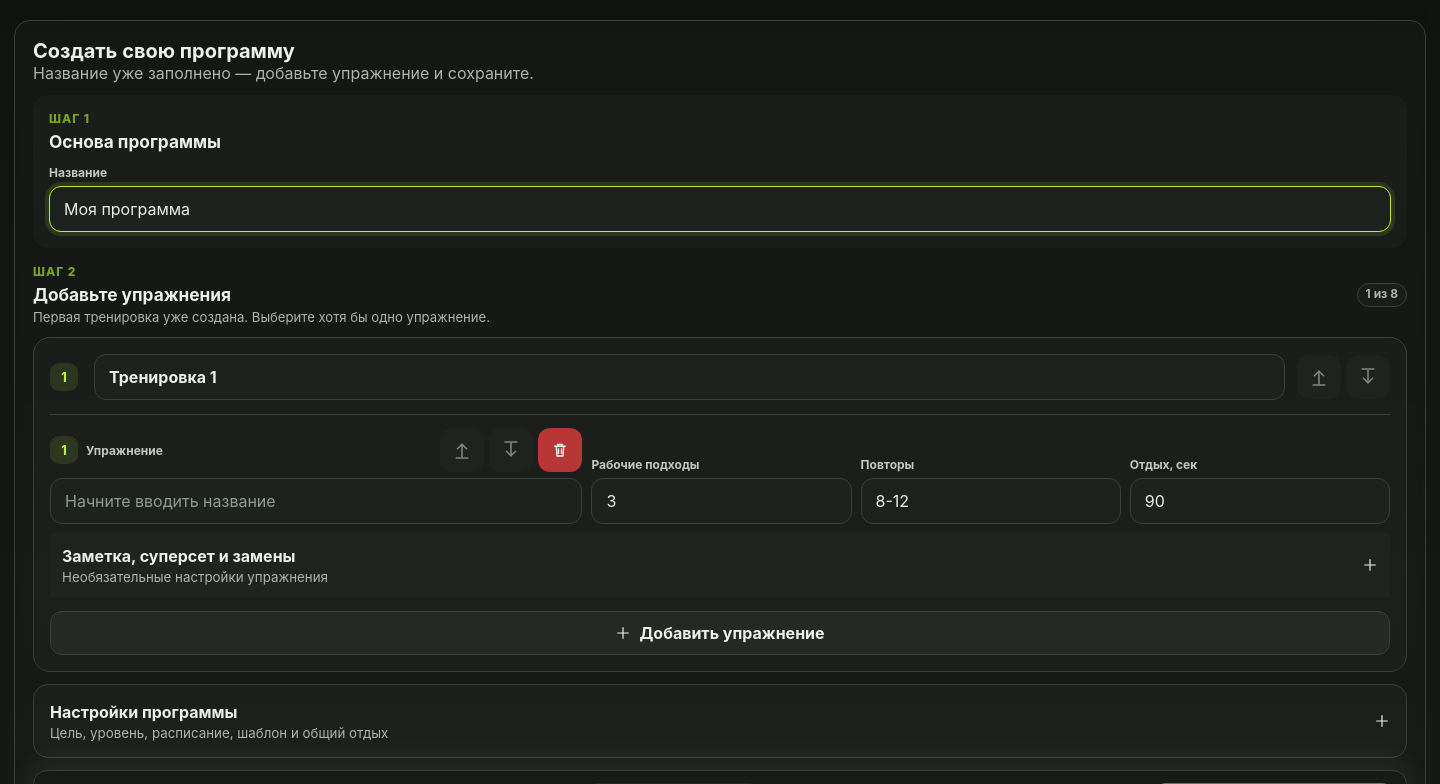
Test: ProgramBuilder type-aware prescription › находит machine/lever упражнение по разговорному alias и добавляет canonical item
Type "верхняя тяга хаммер" into the dropdown named "Поиск упражнения" at (316, 502), box [50,478,582,524]
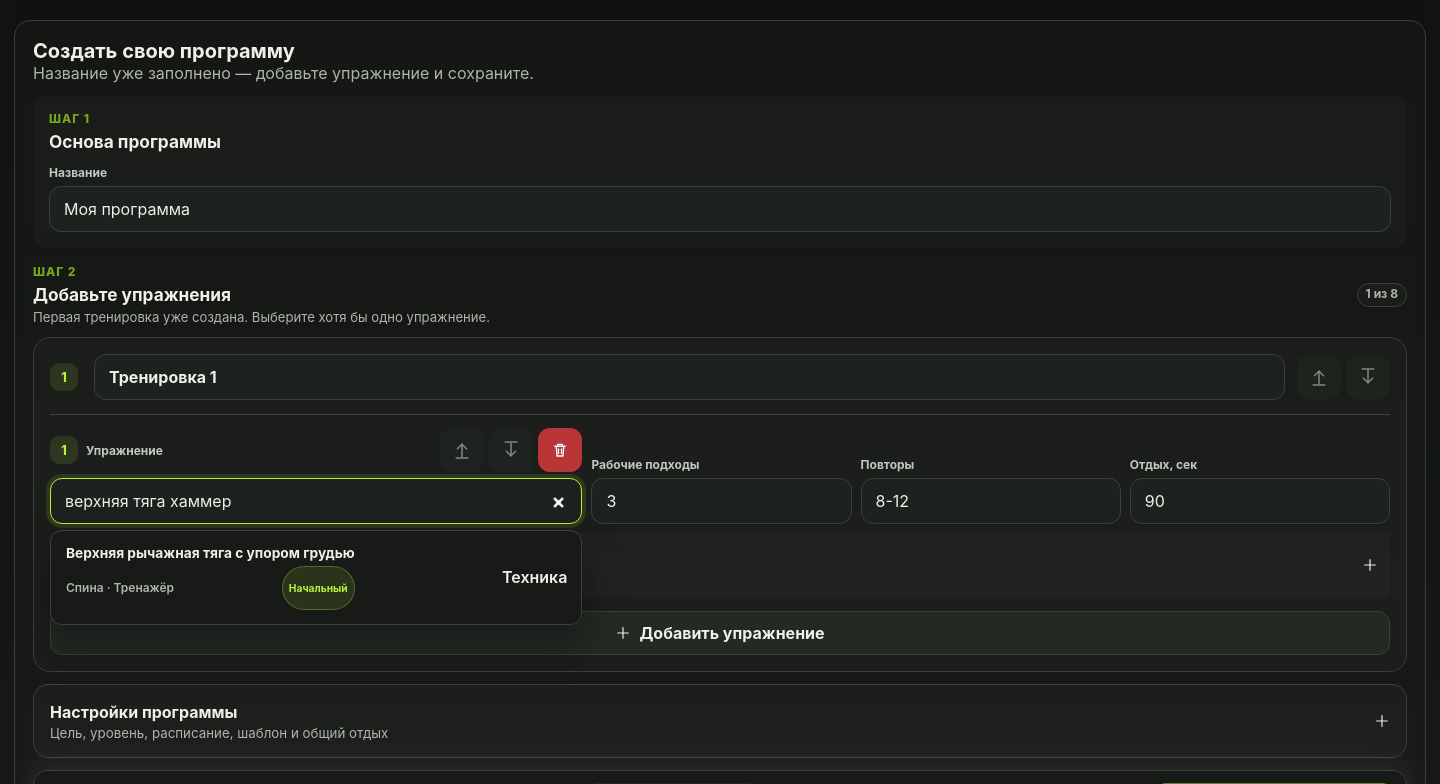
Result: the option "Верхняя рычажная тяга с упором грудью" is shown
Result: the number of options is 1
Click the option at (210, 553), box [56,536,493,619]
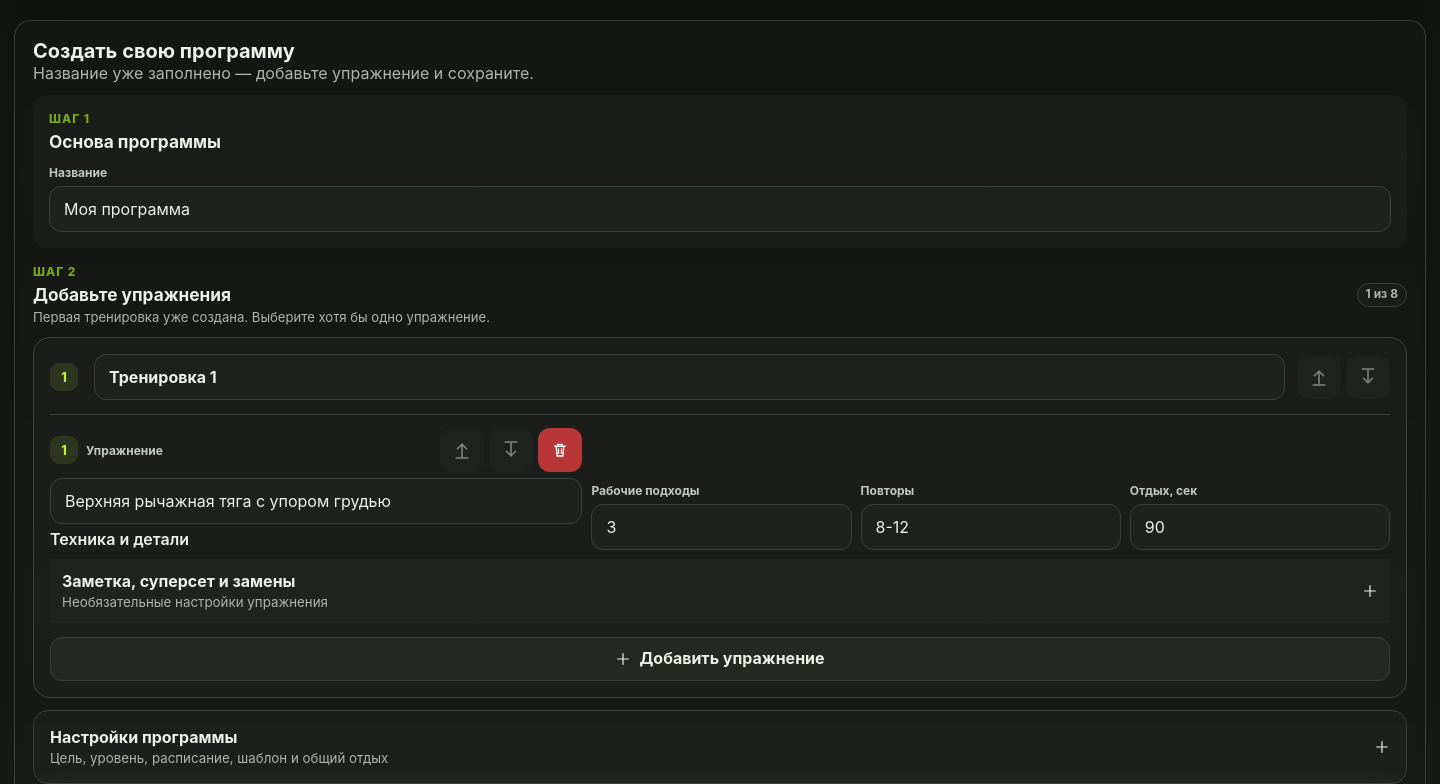
Expected: the number field labelled "Рабочие подходы" is shown, [591,504,852,550]
Result: the dropdown named "Поиск упражнения" holds "Верхняя рычажная тяга с упором грудью" at [50,478,582,524]
